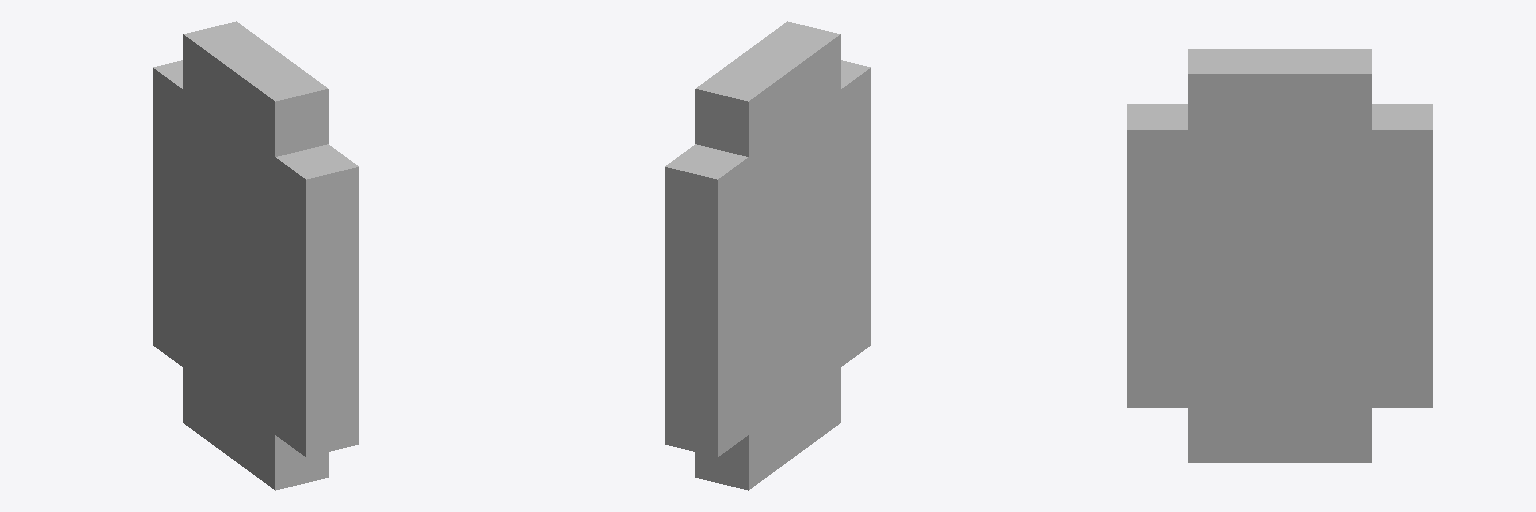
File: Coin.obj
3 views of the same model, side by side, from view 1: azimuth 30°, elevation 25°; view 2: azimuth 150°, elevation 25°; view 3: azimuth 270°, elevation 25° (orthographic).
Visible parts, largest first — view 1: object 1; view 2: object 1; view 3: object 1.
Part boxes in pixels (left/top/right/bottom): object 1: left=153, top=21, right=358, bottom=490; object 1: left=665, top=21, right=870, bottom=490; object 1: left=1127, top=49, right=1432, bottom=462.
Bounding box in the file's own units: 0.1 × 0.7 × 0.5.